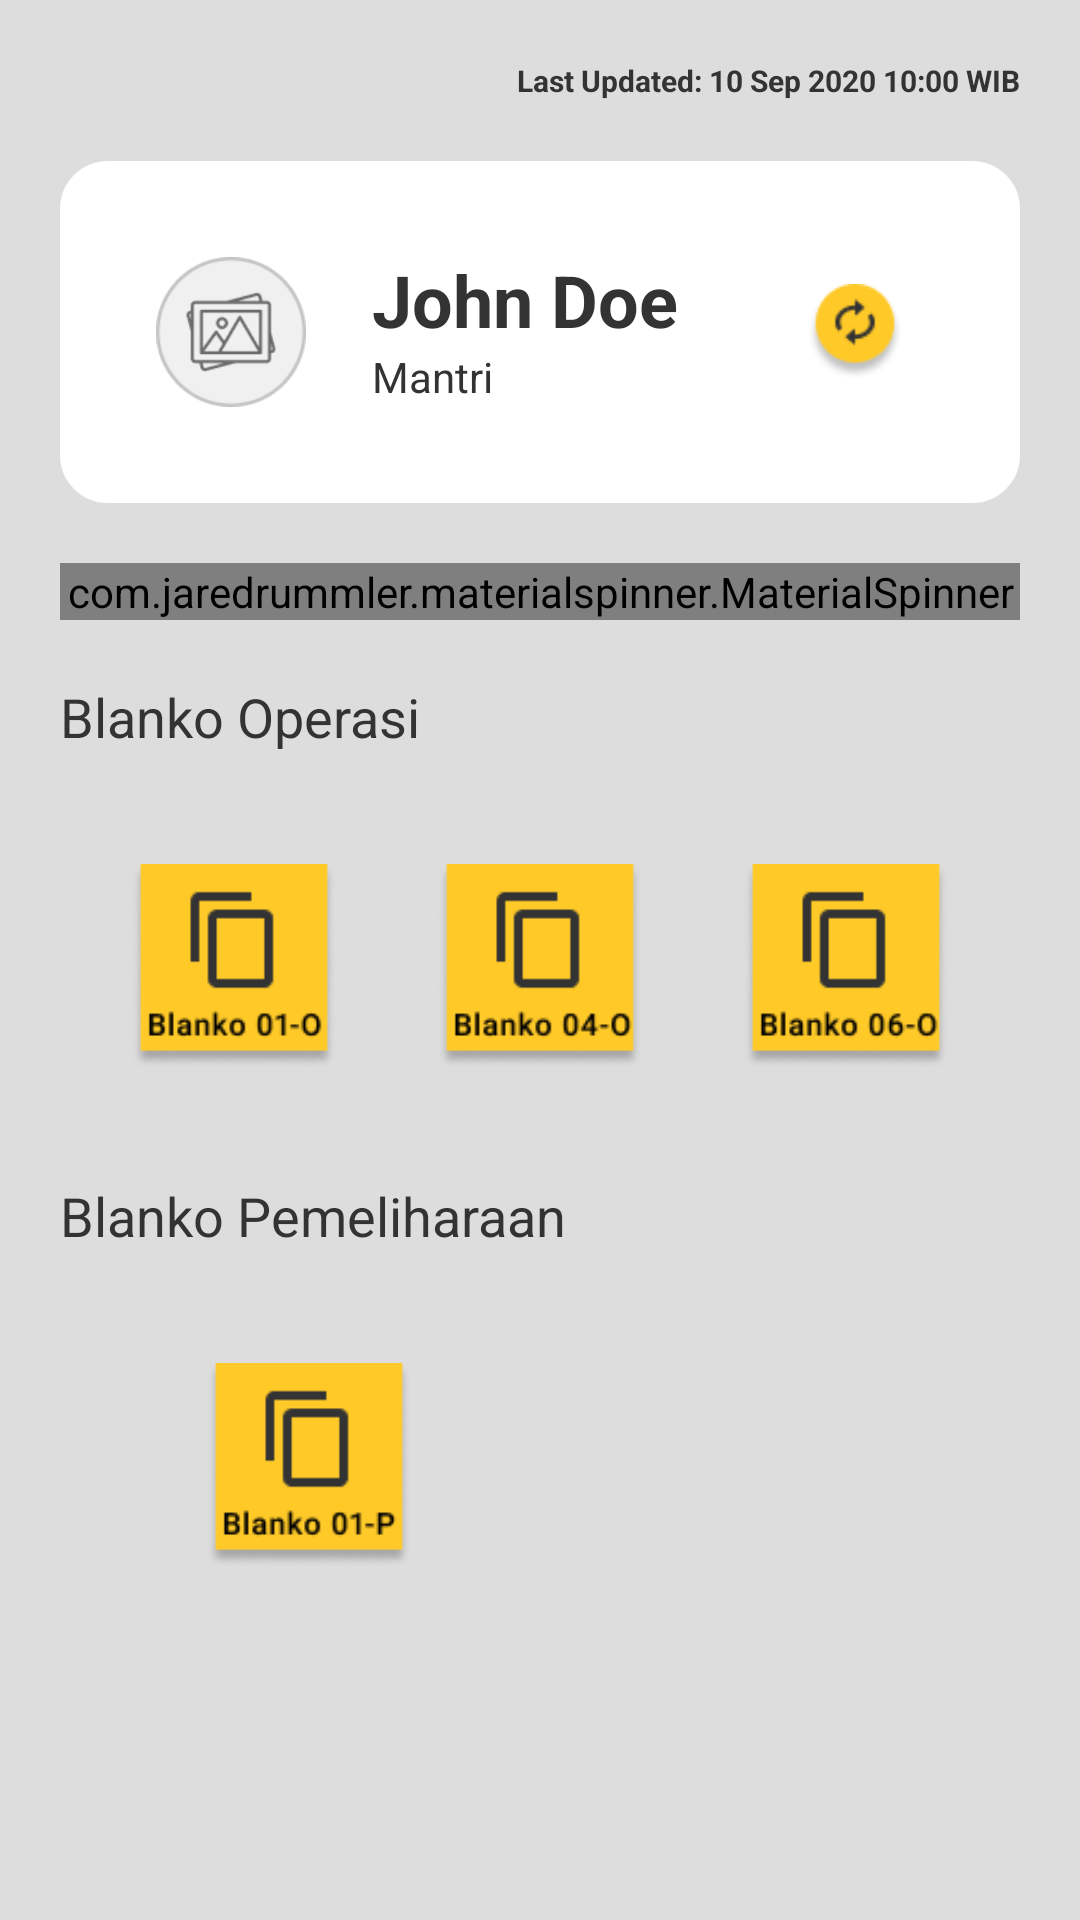

Icons on this 1080 × 1920 Android screen, each with its box as [left=x1, top=y1, right=x2, bottom=y2]:
sync: [left=815, top=284, right=895, bottom=372]
